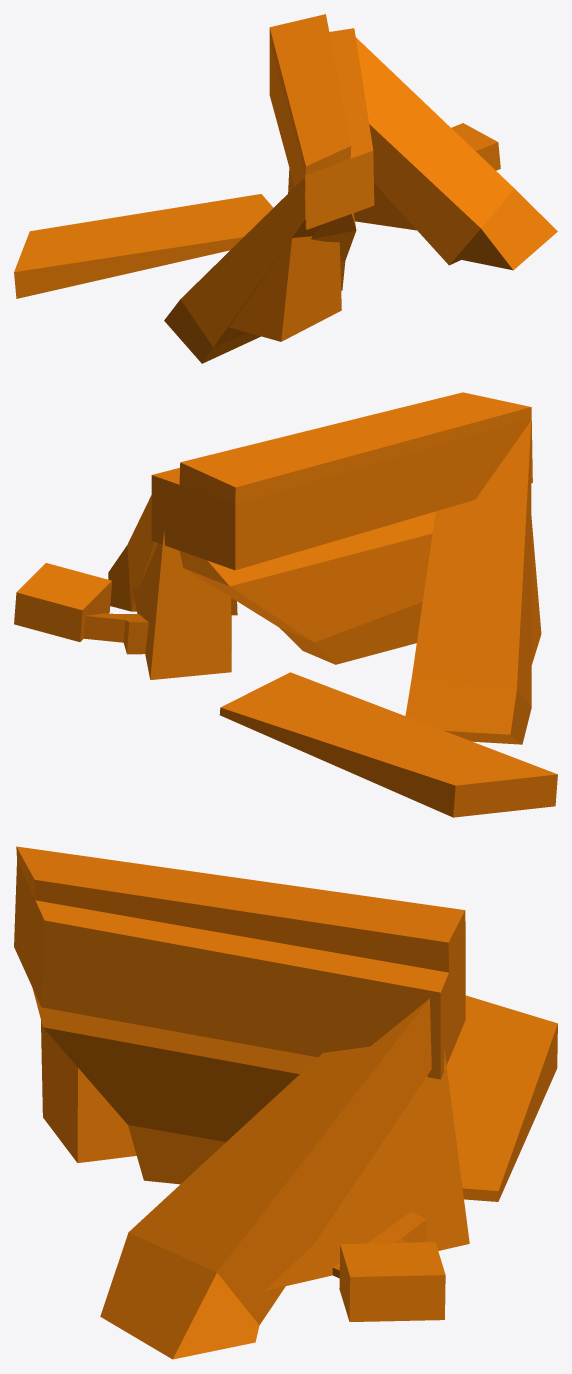
The model's file is Linnaeusborg.fbx.
3 views of the same model, one above another, from view 1: azimuth 30°, elevation 25°; view 2: azimuth 150°, elevation 25°; view 3: azimuth 270°, elevation 25° (orthographic). The views are drawn at different scales.
Parts seen in each view (by area): view 1: Box001; view 2: Box001; view 3: Box001.
Part boxes in pixels (left/top/right/bottom): Box001: left=14, top=14, right=557, bottom=363; Box001: left=14, top=392, right=557, bottom=817; Box001: left=14, top=846, right=557, bottom=1359.
Size of the model in its own units: 693 by 353 by 447.
